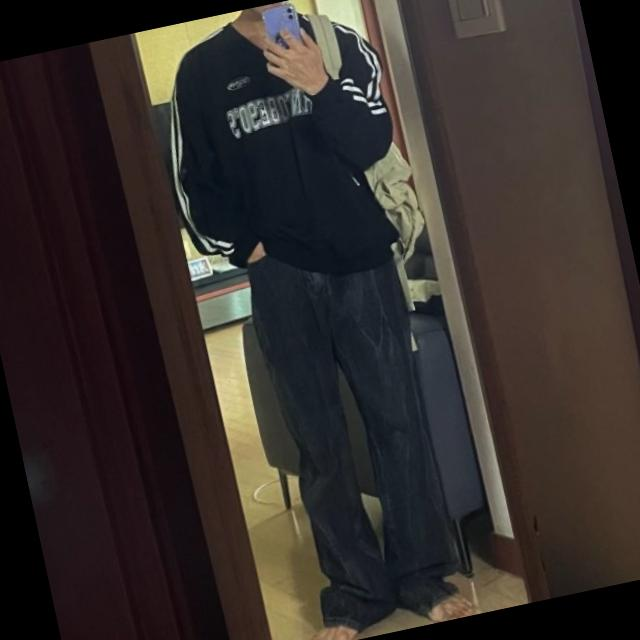denimpants: (241, 223, 474, 640)
mtm: (145, 0, 418, 302)
